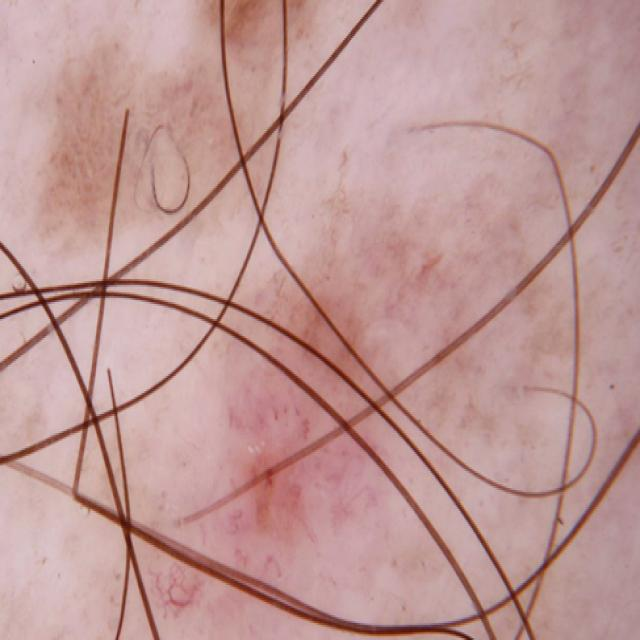Carcinoma: (137, 256, 514, 640)
